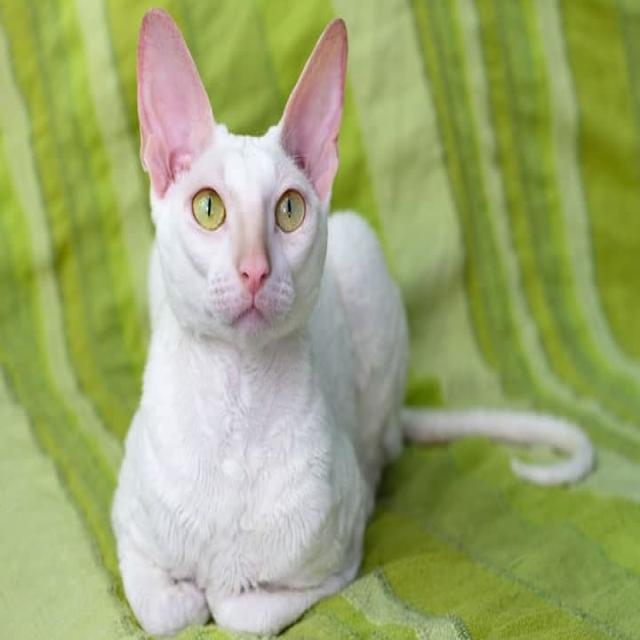Cornish Rex: (107, 0, 601, 640)
